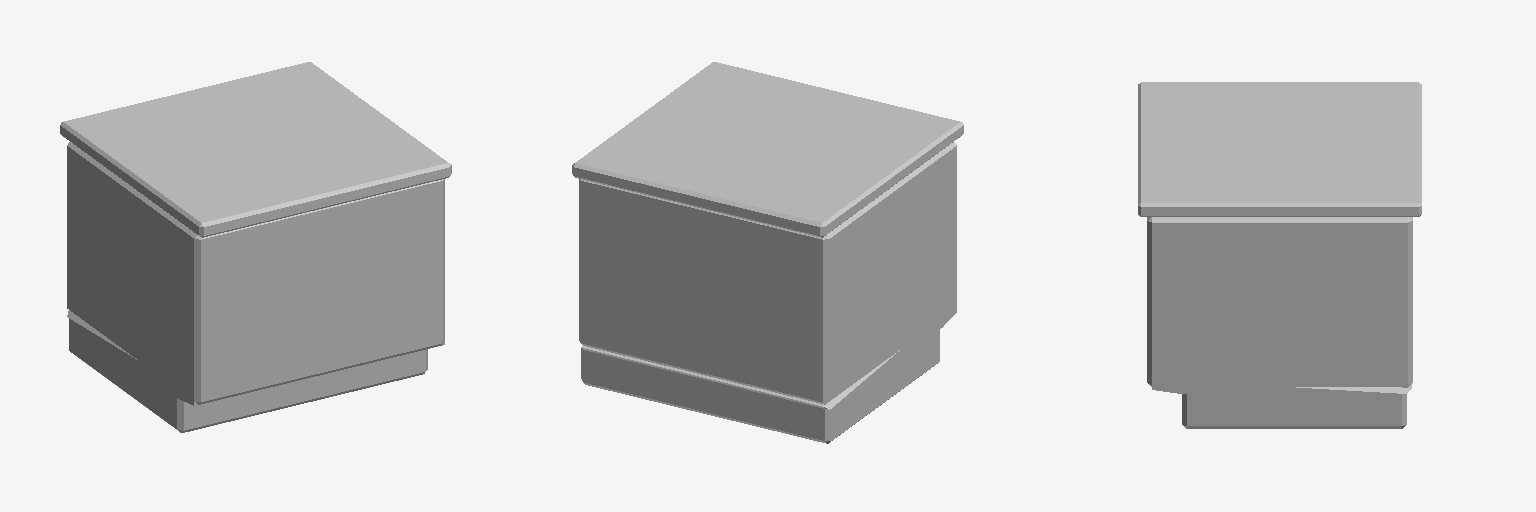
The model's file is Counter_Coner.obj.
The picture shows the model from 3 angles: view 1: azimuth 30°, elevation 25°; view 2: azimuth 150°, elevation 25°; view 3: azimuth 270°, elevation 25°; orthographic projection.
Visible parts, largest first — view 1: Counter_Coner; view 2: Counter_Coner; view 3: Counter_Coner.
Boxes of the visible parts, x1,y1,x2,y2 form: Counter_Coner: [60, 62, 451, 432]; Counter_Coner: [572, 62, 963, 443]; Counter_Coner: [1138, 82, 1421, 428].
Bounding box in the file's own units: 6.42 × 5.52 × 6.26.